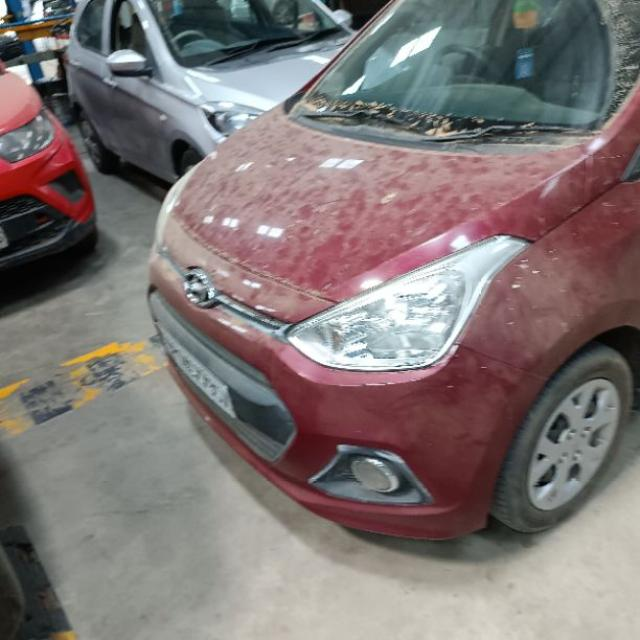license_plate: (146, 286, 297, 464)
